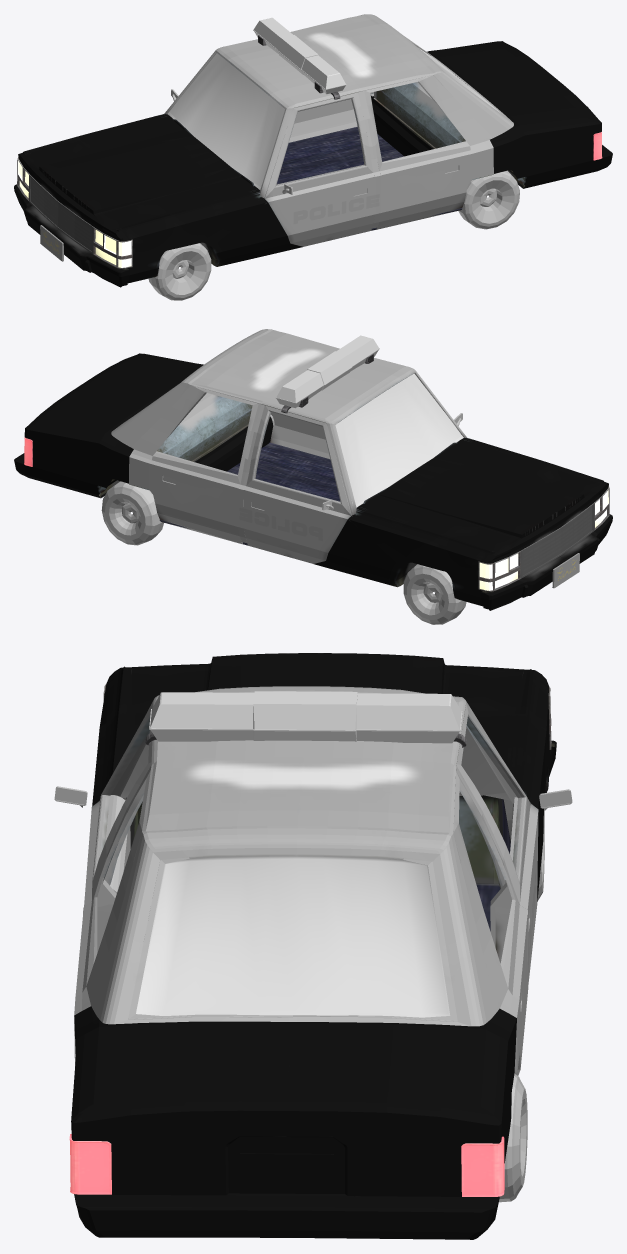
Rendered from PoliceCar.fbx.
3 views of the same model, one above another, from view 1: azimuth 30°, elevation 25°; view 2: azimuth 150°, elevation 25°; view 3: azimuth 270°, elevation 25° (orthographic). The views are drawn at different scales.
Visible parts, largest first — view 1: Car.023, Llantas.004, Car.028; view 2: Car.023, Llantas.004, Car.028; view 3: Car.023, Car.028, Llantas.004.
Boxes of the visible parts, left/top/right/bottom form: Car.023: left=14, top=14, right=612, bottom=287; Llantas.004: left=148, top=170, right=519, bottom=300; Car.028: left=253, top=17, right=346, bottom=94; Car.023: left=14, top=329, right=612, bottom=610; Llantas.004: left=101, top=481, right=466, bottom=624; Car.028: left=275, top=335, right=379, bottom=408; Car.023: left=54, top=653, right=572, bottom=1239; Car.028: left=149, top=691, right=462, bottom=743; Llantas.004: left=499, top=809, right=544, bottom=1202.
Size of the model in its own units: 1843 by 628 by 814.
